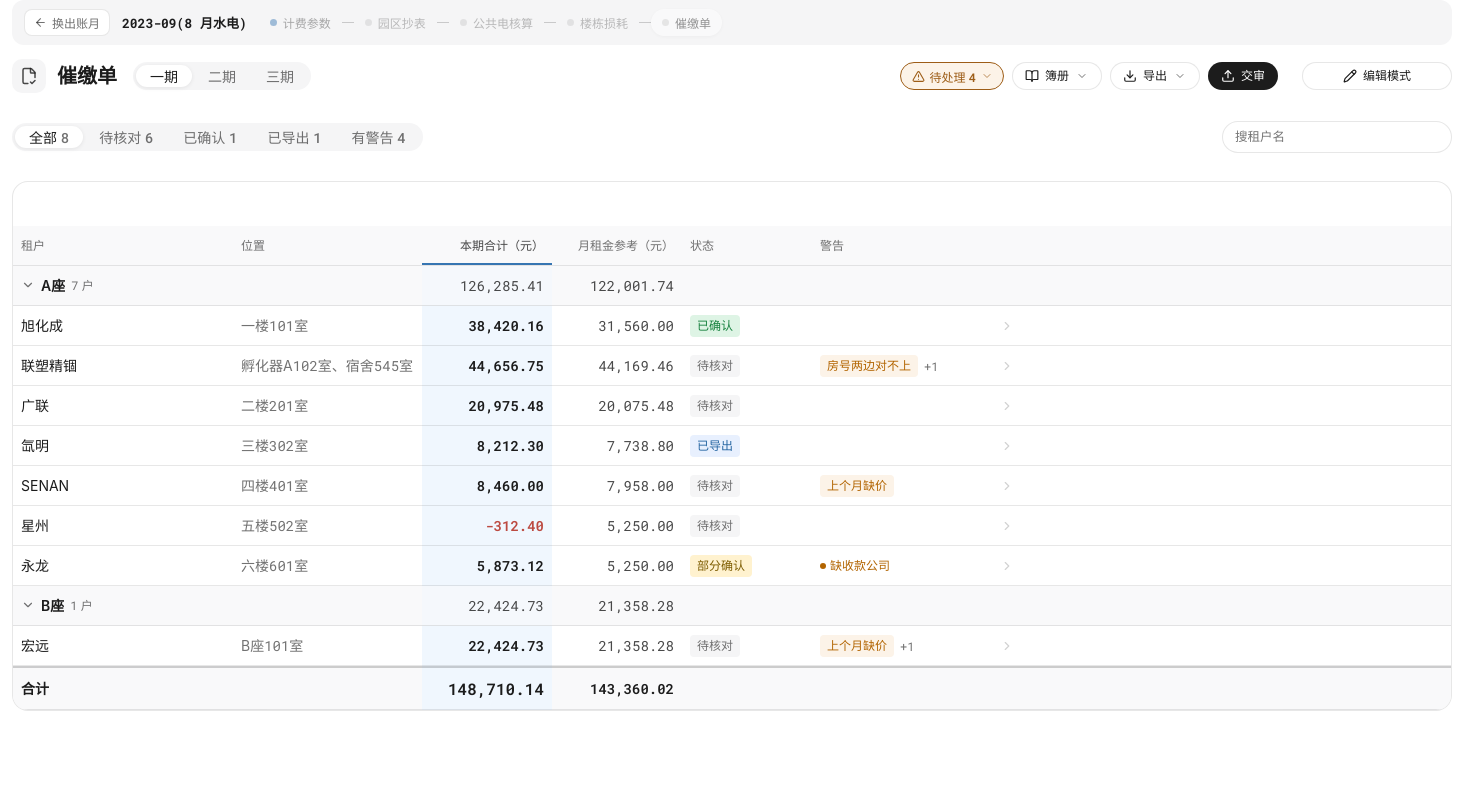
Test case: P4-D5 批量确认选择条(画布 05-C) › A座 7 户 · 可确认 5;全选待核对只选待核对(A座 5 + B座 1);已确认 / 已导出勾选框禁用
Click the button with class "fp-emb": (1377,76) [1302,62,1452,90]
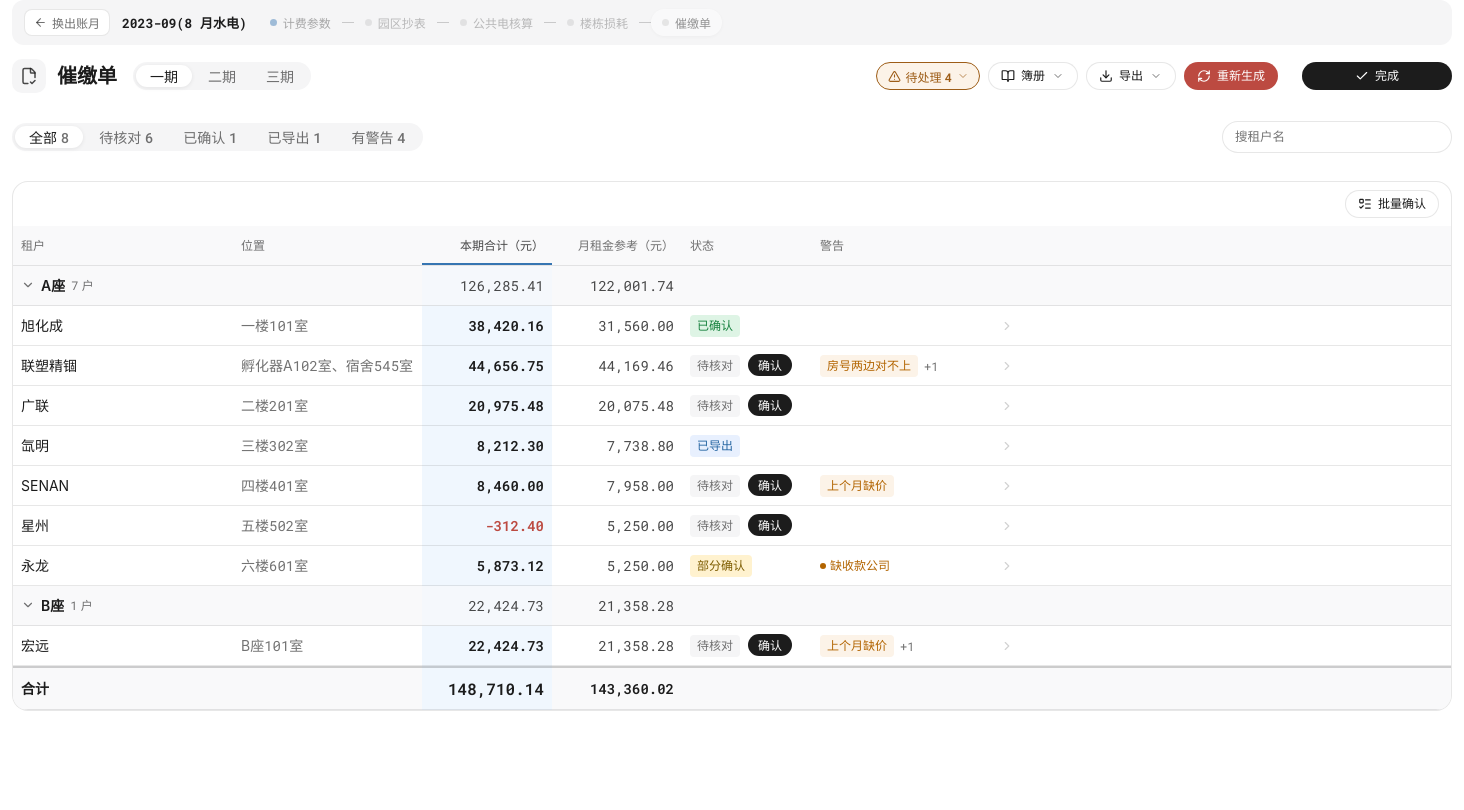
Now the button with class "ds-btn" showing "批量确认" is shown
Click the button with class "ds-btn" showing "批量确认": (1392,204) [1345,190,1439,218]
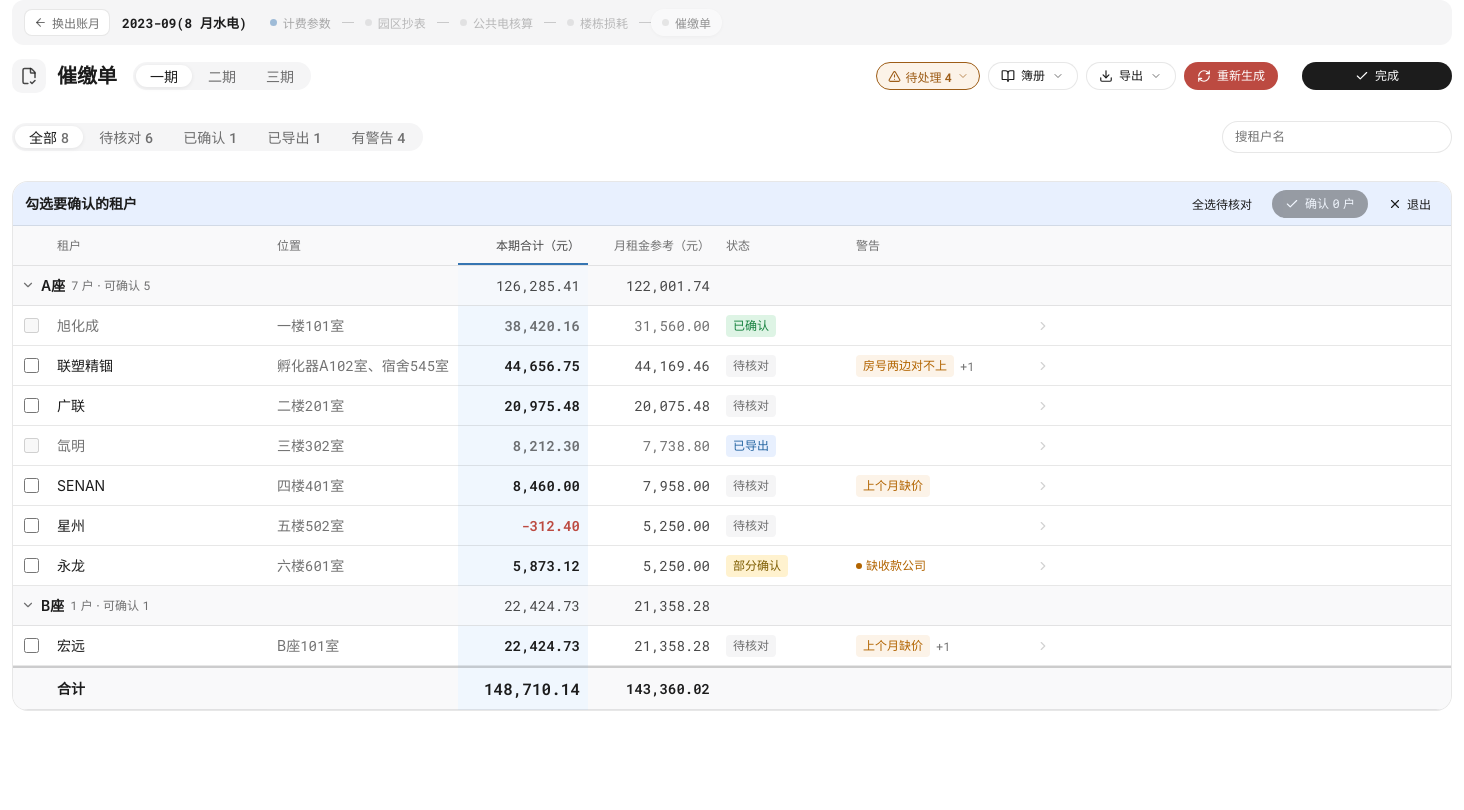
Now the text "7 户 · 可确认 5" is shown, box [71,276,151,293]
Now the element with class "bn-selbar" is shown, box [13,182,1451,226]
Click the button with class "bn-selb" showing "全选待核对": (1222,204) [1184,190,1260,218]
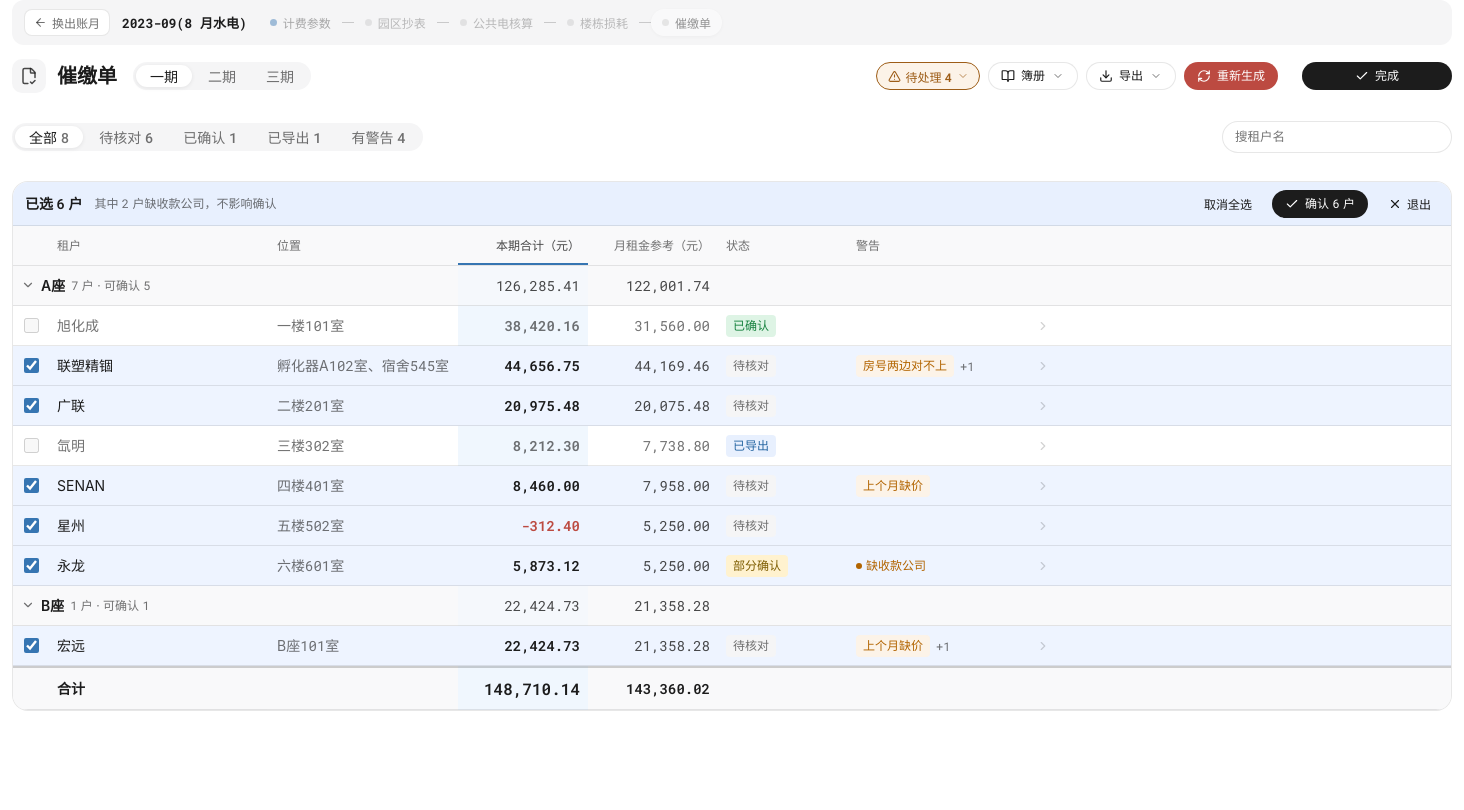
Now the checkbox next to "旭化成" is disabled, box [24,318,38,332]
Now the checkbox next to "氙明" is disabled, box [24,438,38,452]
Now the text with class "bn-selc" reads "已选 6 户", box [25,194,82,212]
